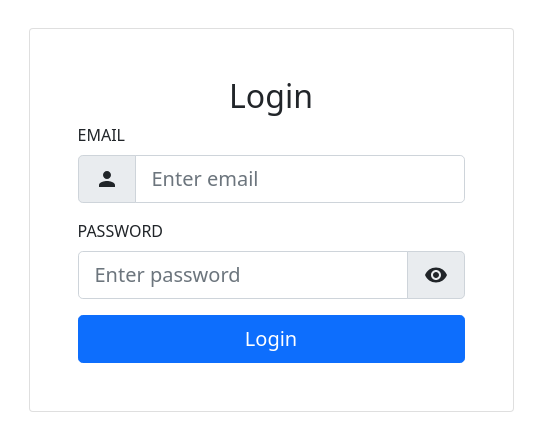
Test: Login Form Validation › displays error message when form is submitted without password field
The width and height of the screenshot is (544, 441).
Note: Type into the Email field
Type "example.x@gmail.com" into the field with id "email".
click(300, 179); type("example.x@gmail.com")  # box [135,155,465,203]
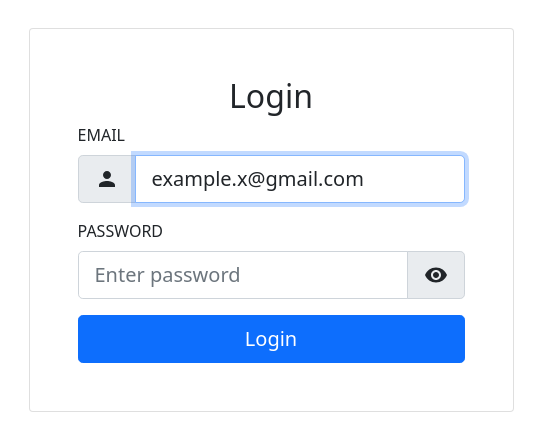
Note: Attempt to submit the form without entering values
Click the submit button.
click(272, 339)  # box [78,315,465,363]
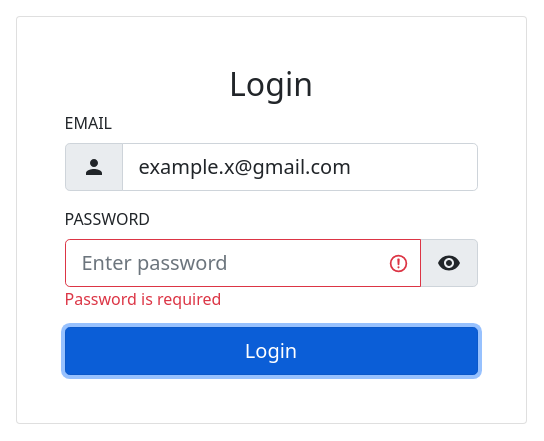
Now the text "Password is required" is shown, box [64,288,221,310]
